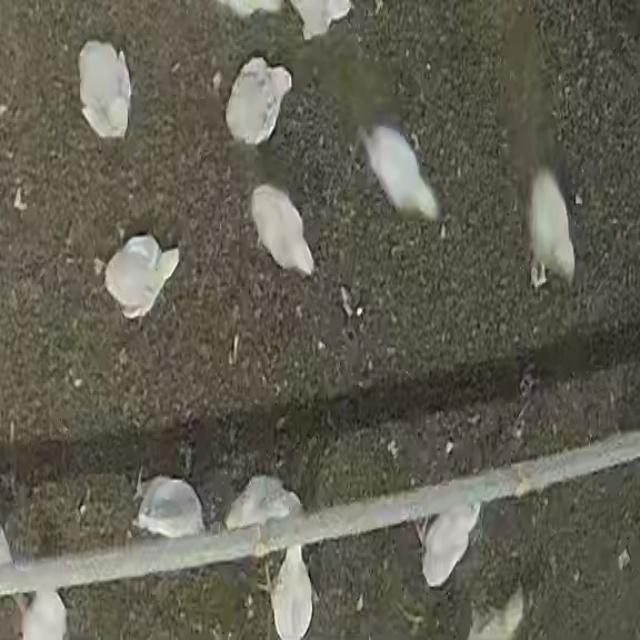chicken: (354, 120, 446, 226), (101, 235, 185, 323), (220, 54, 294, 146), (75, 36, 134, 141), (416, 502, 484, 593), (526, 171, 576, 289), (129, 475, 206, 545), (267, 539, 317, 640), (257, 187, 310, 275), (227, 473, 304, 533), (16, 587, 69, 640)
